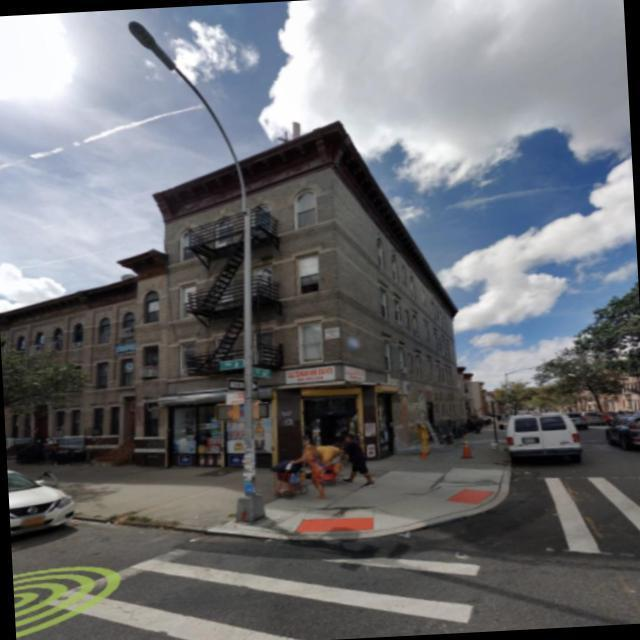off: (85, 16, 330, 188)
